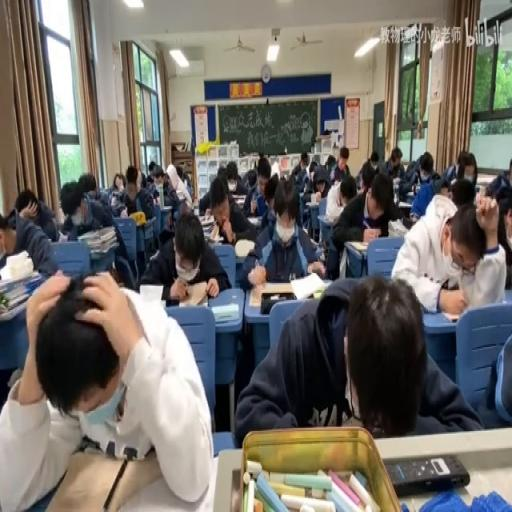calculator: (249, 282, 294, 310), (290, 268, 328, 298), (0, 289, 34, 320), (0, 270, 40, 296), (174, 279, 209, 307), (210, 300, 238, 322), (139, 282, 165, 302), (233, 236, 254, 256), (386, 218, 408, 236), (89, 246, 117, 259), (202, 224, 221, 242), (346, 239, 368, 252), (441, 310, 461, 323), (198, 213, 216, 226), (232, 195, 246, 206), (246, 214, 260, 224), (176, 189, 186, 201), (306, 198, 320, 206), (398, 199, 412, 206), (302, 186, 311, 196), (192, 200, 198, 214)
paper: (2, 269, 210, 509), (234, 273, 476, 444), (388, 186, 502, 314), (238, 179, 326, 289), (138, 206, 228, 300), (330, 168, 405, 276), (198, 172, 258, 243), (470, 322, 510, 428), (61, 179, 117, 243), (3, 188, 58, 247), (405, 151, 451, 213), (120, 165, 155, 223), (302, 164, 332, 218), (484, 155, 511, 202), (497, 198, 512, 280), (260, 171, 278, 219), (449, 176, 474, 206), (384, 145, 403, 179), (290, 152, 309, 186), (160, 179, 179, 211), (359, 161, 375, 193), (109, 189, 126, 215), (341, 183, 356, 205), (323, 155, 336, 179), (0, 209, 13, 230), (112, 172, 125, 192), (225, 165, 237, 185), (445, 160, 457, 180), (245, 170, 256, 190), (369, 150, 379, 170), (270, 159, 280, 179), (146, 158, 156, 175), (339, 145, 349, 162), (174, 164, 184, 180), (182, 170, 190, 188), (152, 175, 162, 188), (150, 186, 158, 202), (309, 160, 317, 174), (252, 158, 258, 175), (508, 156, 512, 180), (146, 171, 154, 182), (140, 174, 146, 188), (301, 158, 306, 168)
person: (386, 452, 470, 494), (164, 296, 181, 304)
